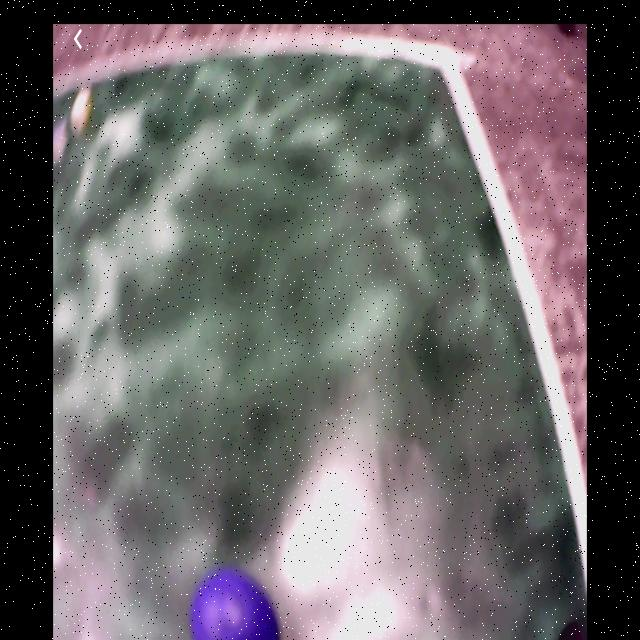ball: (191, 573, 282, 640)
